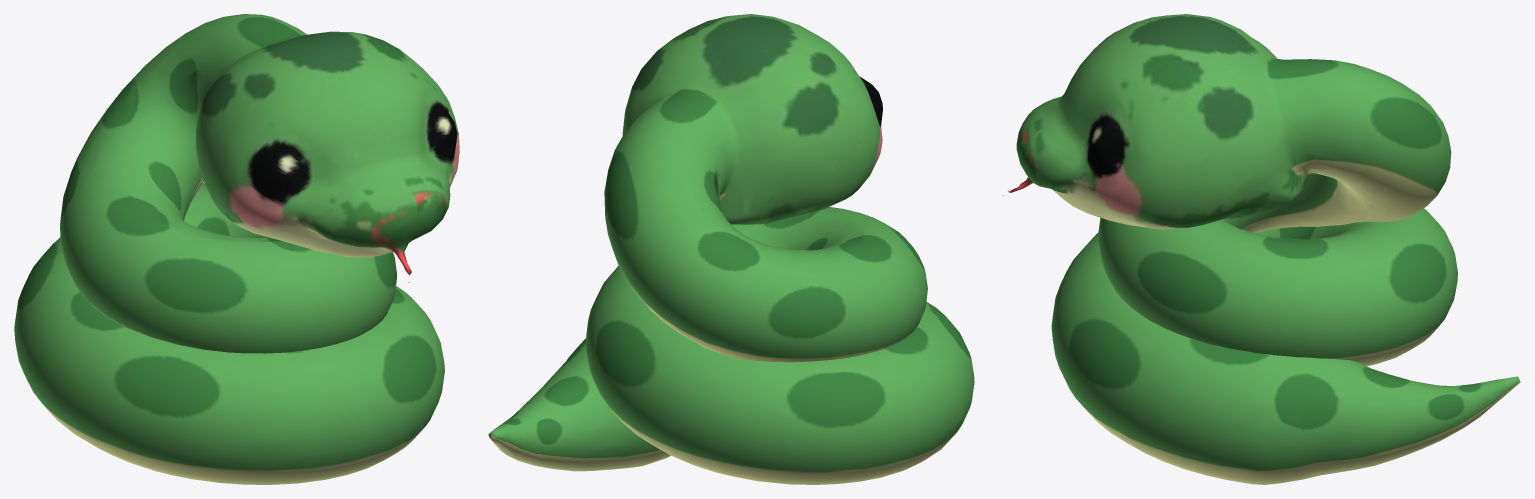
The model's file is snake.glb.
3 views of the same model, side by side, from view 1: azimuth 30°, elevation 25°; view 2: azimuth 150°, elevation 25°; view 3: azimuth 270°, elevation 25° (orthographic). The views are drawn at different scales.
Visible parts, largest first — view 1: Mesh_0.002; view 2: Mesh_0.002; view 3: Mesh_0.002.
Boxes of the visible parts, left/top/right/bottom form: Mesh_0.002: left=14, top=14, right=459, bottom=484; Mesh_0.002: left=488, top=14, right=974, bottom=484; Mesh_0.002: left=1003, top=14, right=1520, bottom=484.
Size of the model in its own units: 1.22 by 1.3 by 1.47.
1 material, 1 textured.
